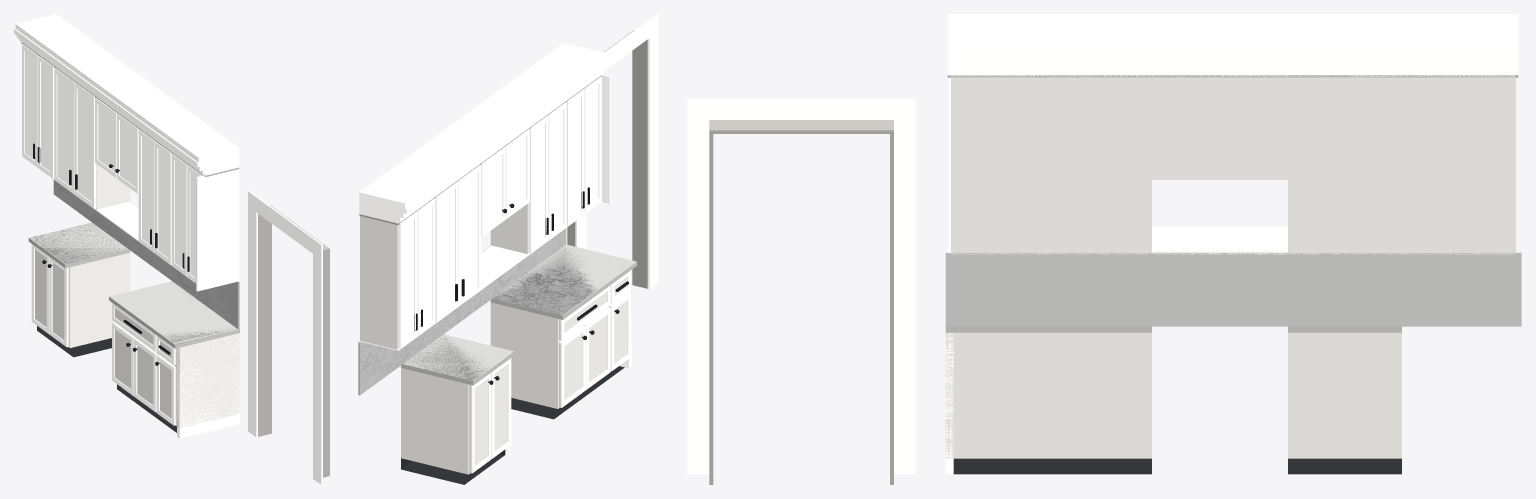
Rendered from Kitchen_Cabinets_East.glb.
3 renders of one model, left to right at view 1: azimuth 30°, elevation 25°; view 2: azimuth 150°, elevation 25°; view 3: azimuth 270°, elevation 25°, orthographic. The views are drawn at different scales.
Parts seen in each view (by area): view 1: root; view 2: root; view 3: root.
Boxes of the visible parts, x1=… form: root: x1=14, y1=14, x2=329, y2=484; root: x1=358, y1=14, x2=658, y2=484; root: x1=687, y1=14, x2=1521, y2=484.
Size of the model in its own units: 0.8086 by 2.66 by 4.68.
Materials: 10 (2 with a texture image).
